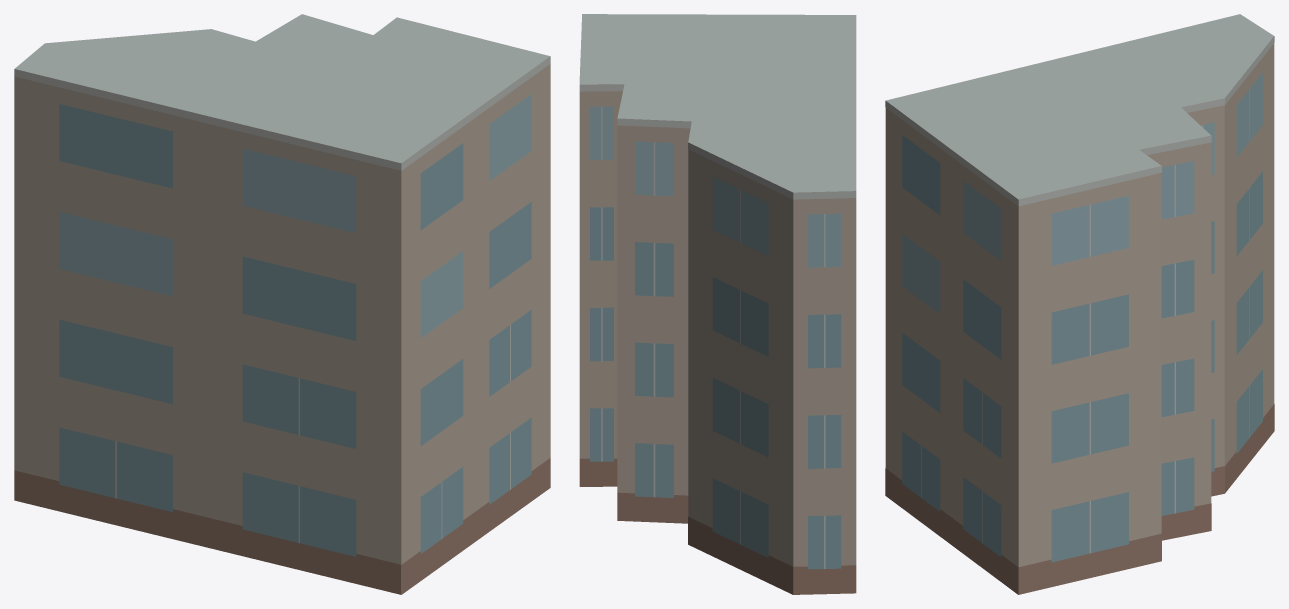
The model's file is survey-upis-32778283.glb.
3 renders of one model, left to right at view 1: azimuth 30°, elevation 25°; view 2: azimuth 150°, elevation 25°; view 3: azimuth 270°, elevation 25°, orthographic. The views are drawn at different scales.
Parts seen in each view (by area): view 1: survey-upis-32778283.tmp; view 2: survey-upis-32778283.tmp; view 3: survey-upis-32778283.tmp.
Part boxes in pixels (box(x1,y1,x2,y2)): survey-upis-32778283.tmp: box(14, 14, 550, 594); survey-upis-32778283.tmp: box(579, 14, 856, 594); survey-upis-32778283.tmp: box(885, 14, 1274, 594).
Size of the model in its own units: 14.21 by 14.1 by 12.58.
